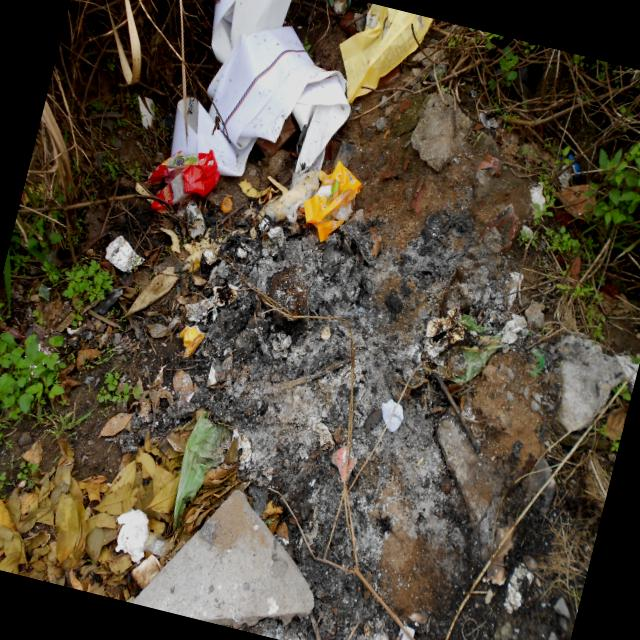garbage: (18, 0, 631, 640)
